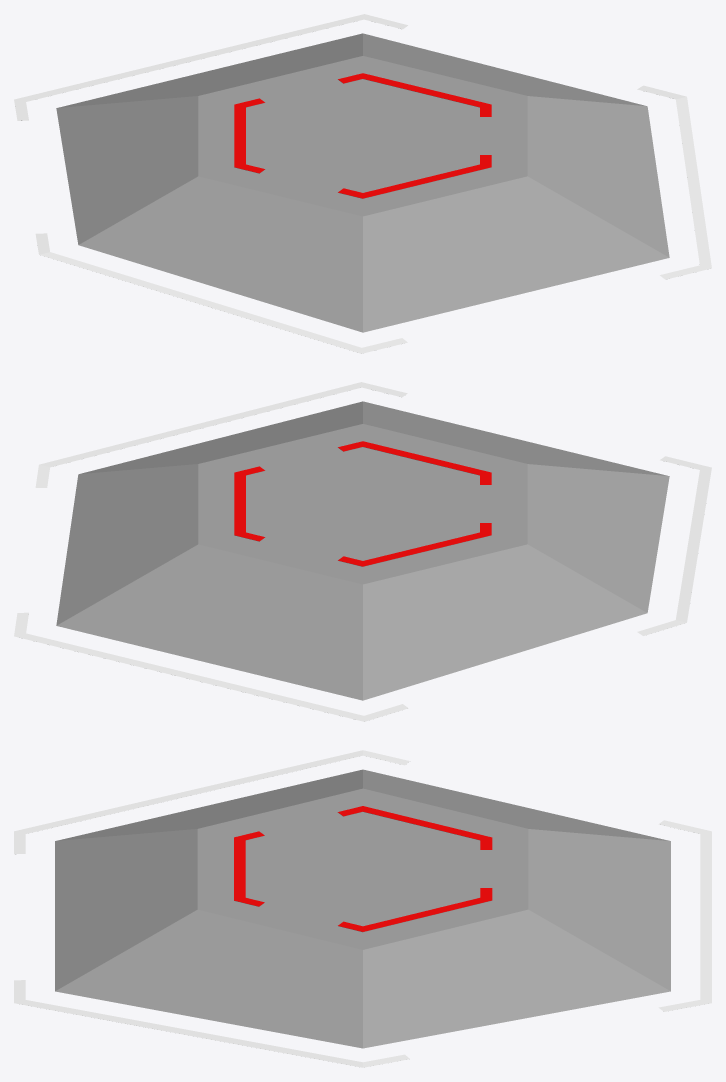
3 views of the same model, one above another, from view 1: azimuth 30°, elevation 25°; view 2: azimuth 150°, elevation 25°; view 3: azimuth 270°, elevation 25° (orthographic).
Visible parts, largest first — view 1: node; view 2: node; view 3: node.
Boxes of the visible parts, bbox=[...] form: node: bbox=[14, 14, 711, 353]; node: bbox=[14, 382, 711, 721]; node: bbox=[14, 750, 711, 1067].
Size of the model in its own units: 2.57 by 2.39 by 0.1823.
